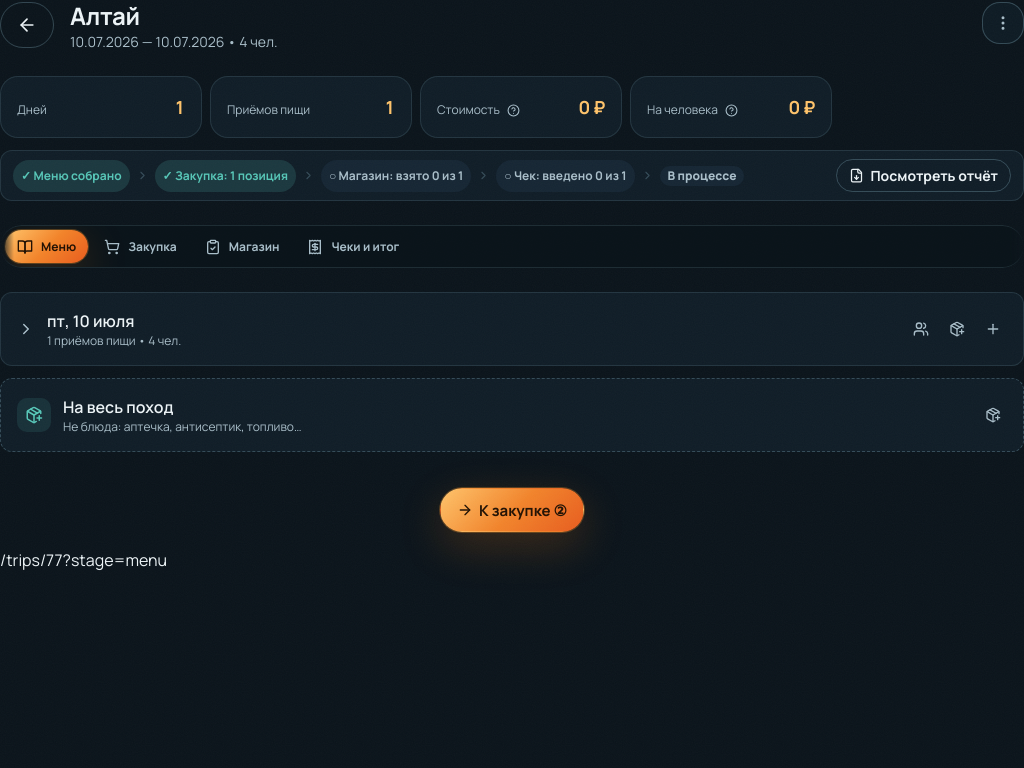
Test: Блюдо из меню открывает рецепт (navigation-п.5) › рецепт удалён из каталога → sheet на снепшоте, битой ссылки нет
Click the text "пт, 10 июля": x=91, y=321 [47,310,134,332]
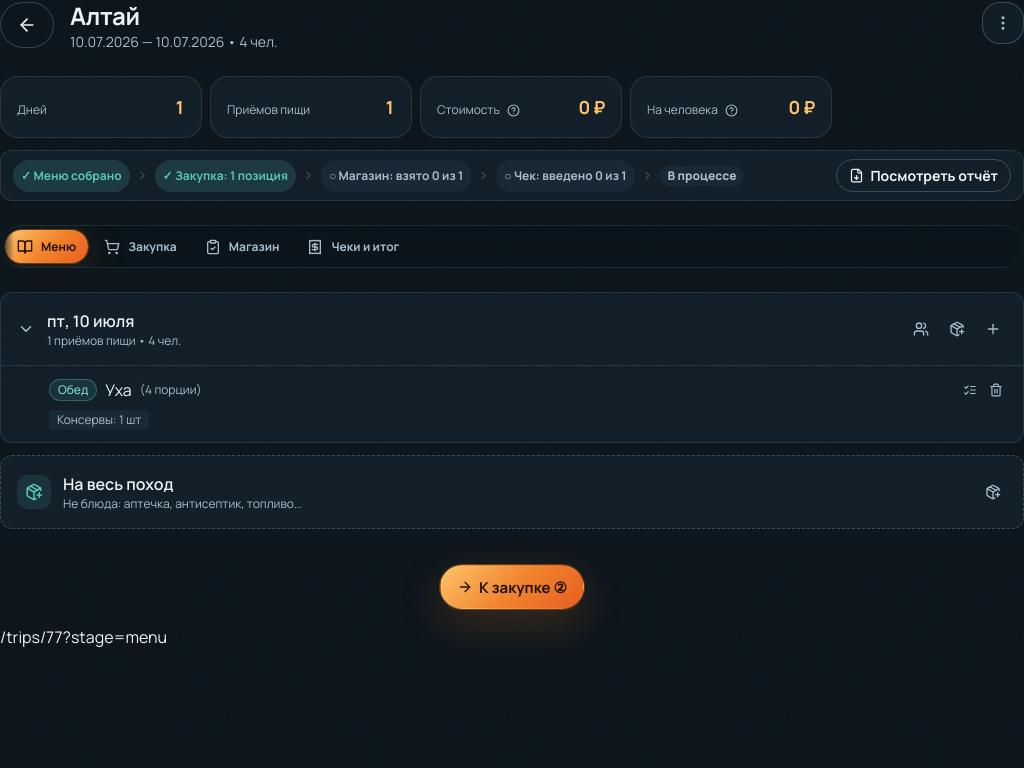
Click the button with test id "meal-recipe-link": x=119, y=390 [105,378,132,402]
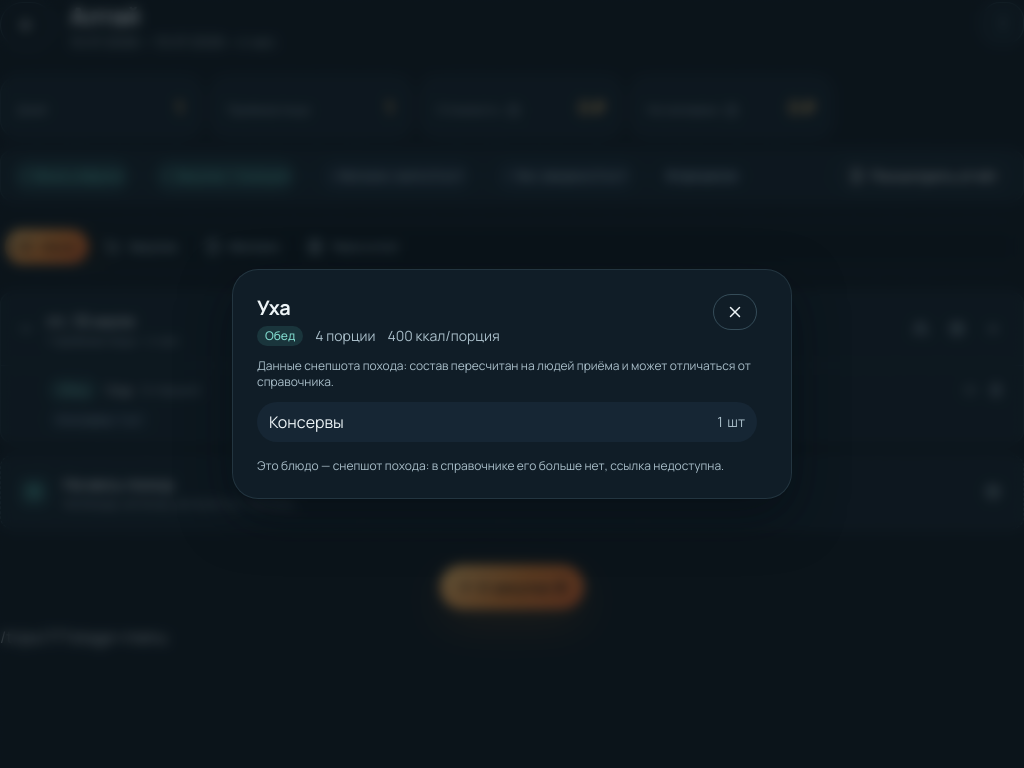
Expected: the dialog named "Блюдо: Уха" is shown, [232,269,792,499]
Expected: the text with test id "recipe-sheet-no-catalog" is shown, [257,458,757,474]
